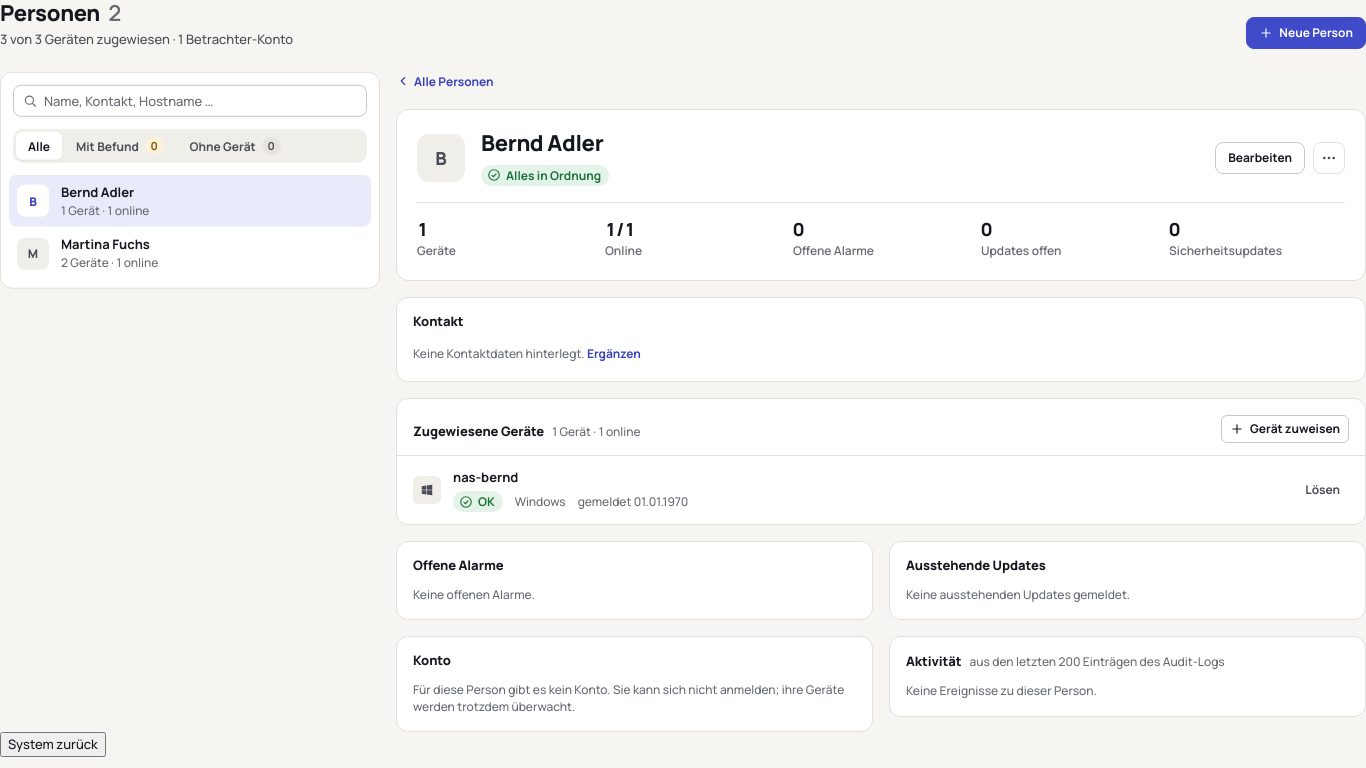
Test: PersonsPage › creates a person and shows the one-time password
Click the button "Neue Person" at (1306, 33), box [1246,17,1365,49]
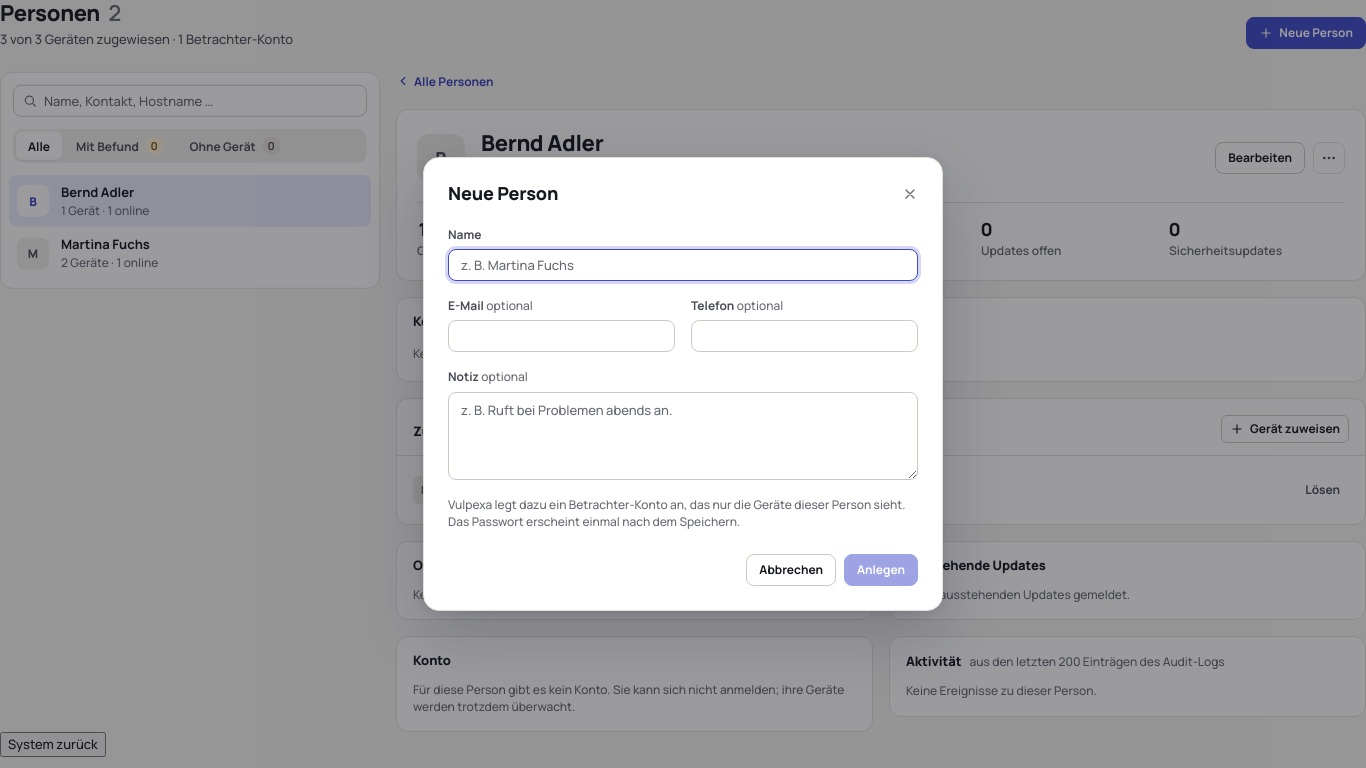
Type "  Oma Erna " into the field labelled "Name" at (683, 265), box [448,249,918,281]
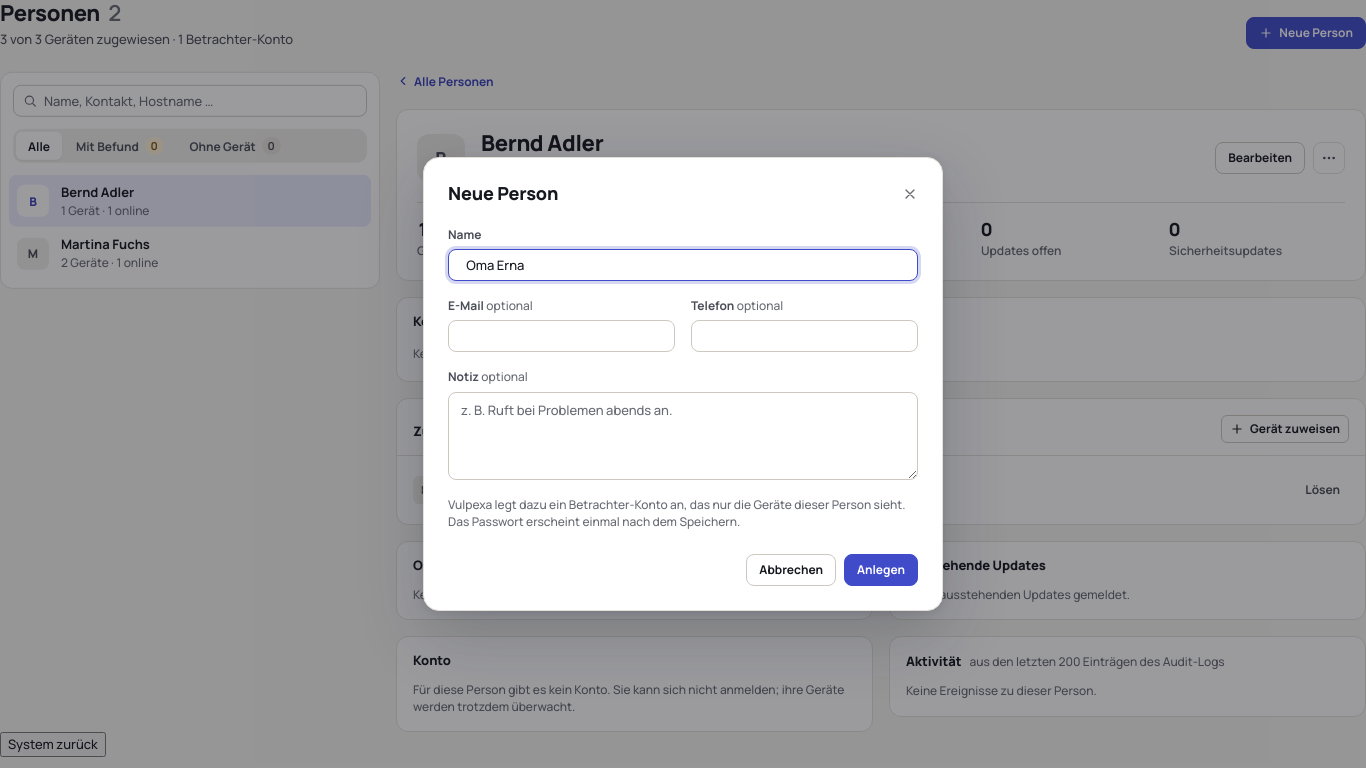
Click the button "Anlegen" at (881, 570), box [844,554,918,586]
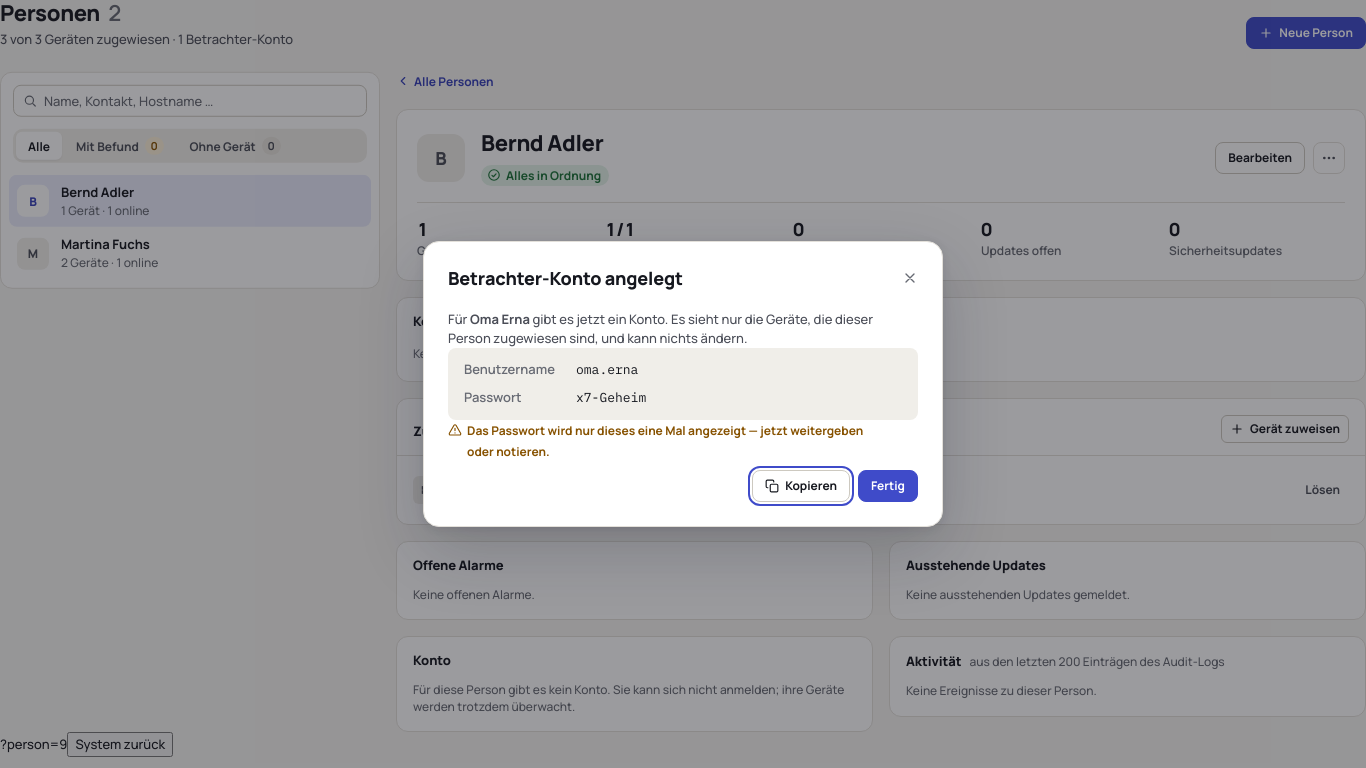
Check: the text "oma.erna" is shown, box [576,361,638,378]
Check: the text "x7-Geheim" is shown, box [576,389,646,406]
Check: the text with test id "where" reads "?person=9", box [0,735,67,753]
